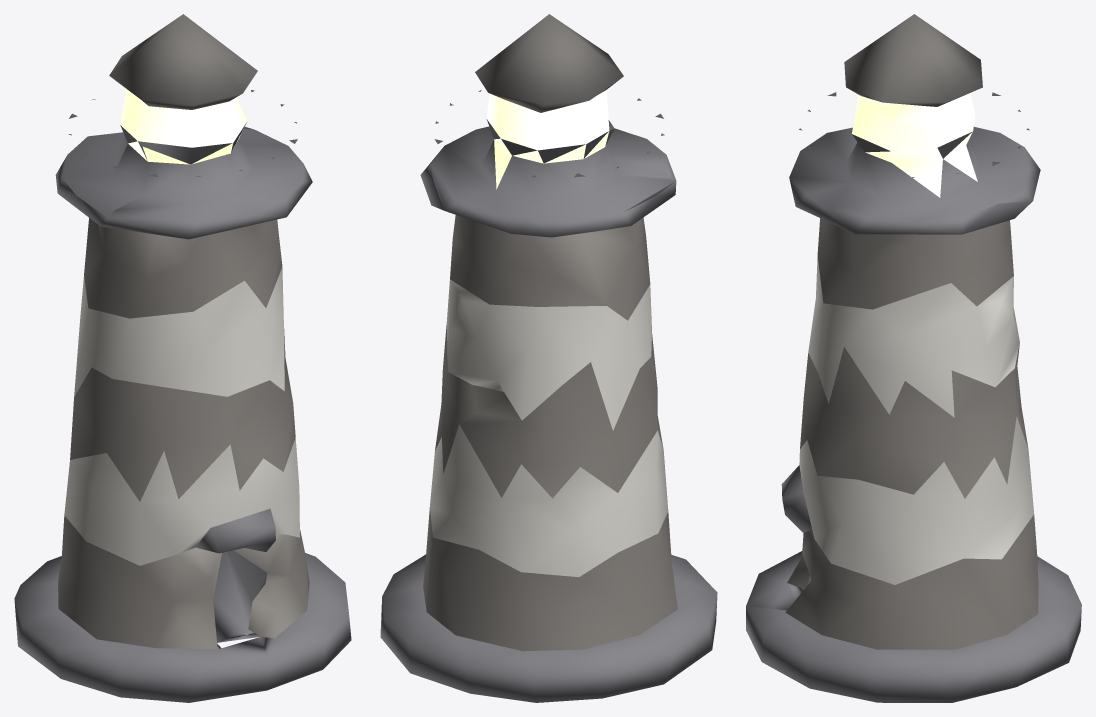
File: poi_small_lighthouse_lods.glb
3 renders of one model, left to right at view 1: azimuth 30°, elevation 25°; view 2: azimuth 150°, elevation 25°; view 3: azimuth 270°, elevation 25°, orthographic.
Visible parts, largest first — view 1: poi_small_lighthouse_far; view 2: poi_small_lighthouse_far; view 3: poi_small_lighthouse_far.
Boxes of the visible parts, x1=… form: poi_small_lighthouse_far: x1=14, y1=14, x2=351, y2=702; poi_small_lighthouse_far: x1=380, y1=14, x2=717, y2=702; poi_small_lighthouse_far: x1=746, y1=14, x2=1081, y2=702.
Size of what is drawn, in the model's own units: 5.45 by 11.21 by 5.5.
